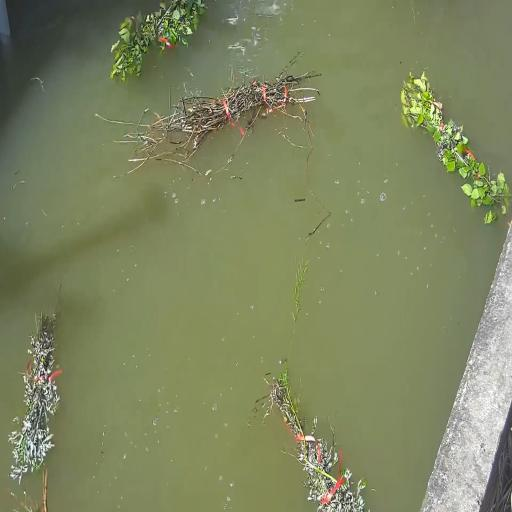twig: (101, 66, 319, 173), (259, 366, 366, 512), (401, 71, 510, 214), (9, 312, 62, 482), (110, 0, 204, 81), (42, 467, 48, 512)
